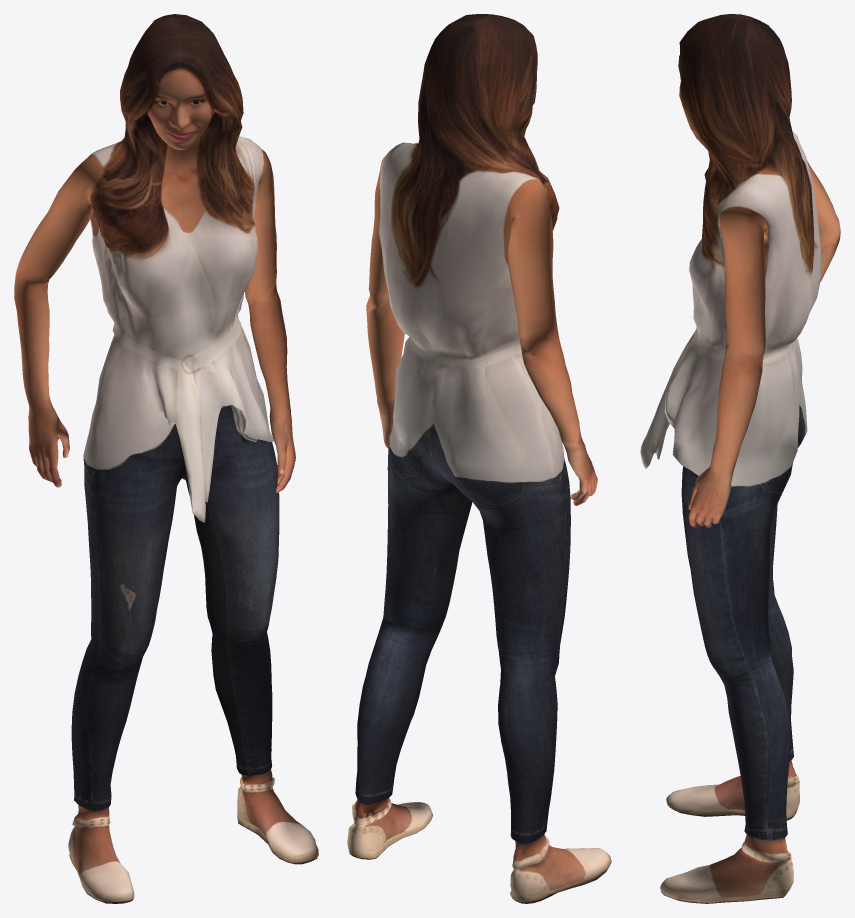
File: insan_sophia.glb
The picture shows the model from 3 angles, left to right: view 1: azimuth 30°, elevation 25°; view 2: azimuth 150°, elevation 25°; view 3: azimuth 270°, elevation 25°; orthographic projection.
Visible parts, largest first — view 1: Object_96; view 2: Object_96; view 3: Object_96.
Part boxes in pixels (x1,y1,x2,y2): Object_96: (14, 14, 318, 903); Object_96: (347, 14, 611, 903); Object_96: (640, 14, 840, 903).
Bounding box in the file's own units: 0.5247 × 1.73 × 0.377.
Materials: 1 (1 with a texture image).
